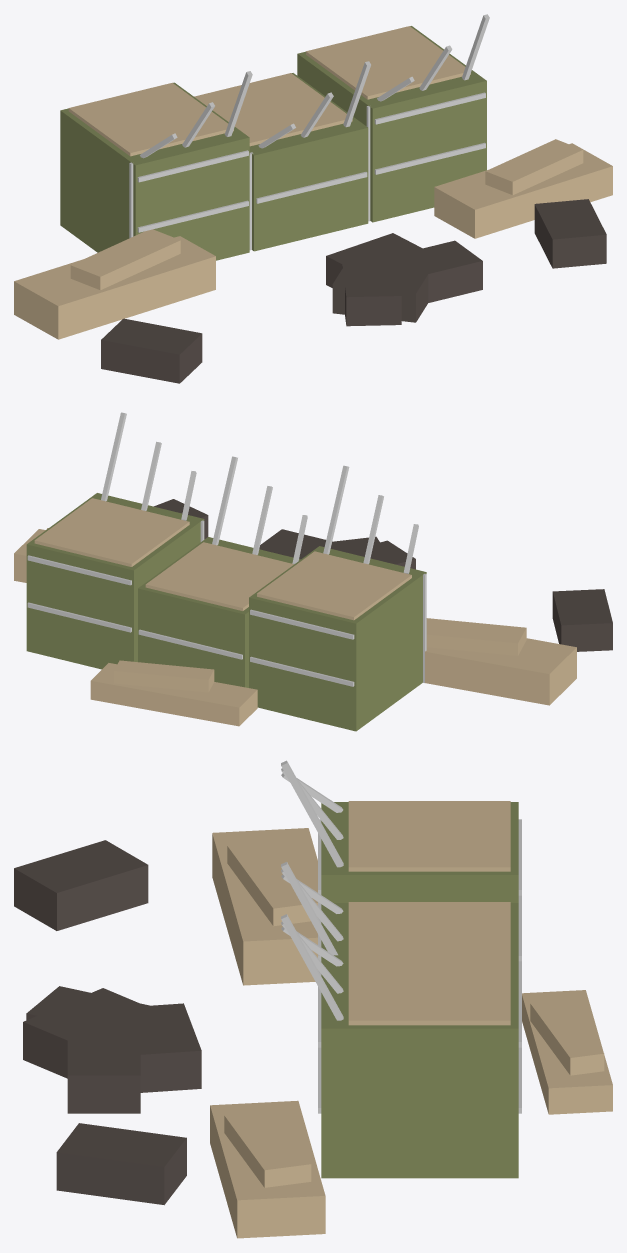
File: SM_HescoCorto3_v2_Escalonado_e2_MuyDanado_LOD0.fbx
3 views of the same model, one above another, from view 1: azimuth 30°, elevation 25°; view 2: azimuth 150°, elevation 25°; view 3: azimuth 270°, elevation 25° (orthographic). The views are drawn at different scales.
Visible parts, largest first — view 1: SM_hesco_piezas_v90_LOD0; view 2: SM_hesco_piezas_v90_LOD0; view 3: SM_hesco_piezas_v90_LOD0.
Part boxes in pixels (x1=…): SM_hesco_piezas_v90_LOD0: x1=14, y1=14, x2=612, y2=383; SM_hesco_piezas_v90_LOD0: x1=14, y1=412, x2=612, y2=731; SM_hesco_piezas_v90_LOD0: x1=14, y1=760, x2=612, y2=1238.
Size of the model in its own units: 5.36 by 1.74 by 3.7.
